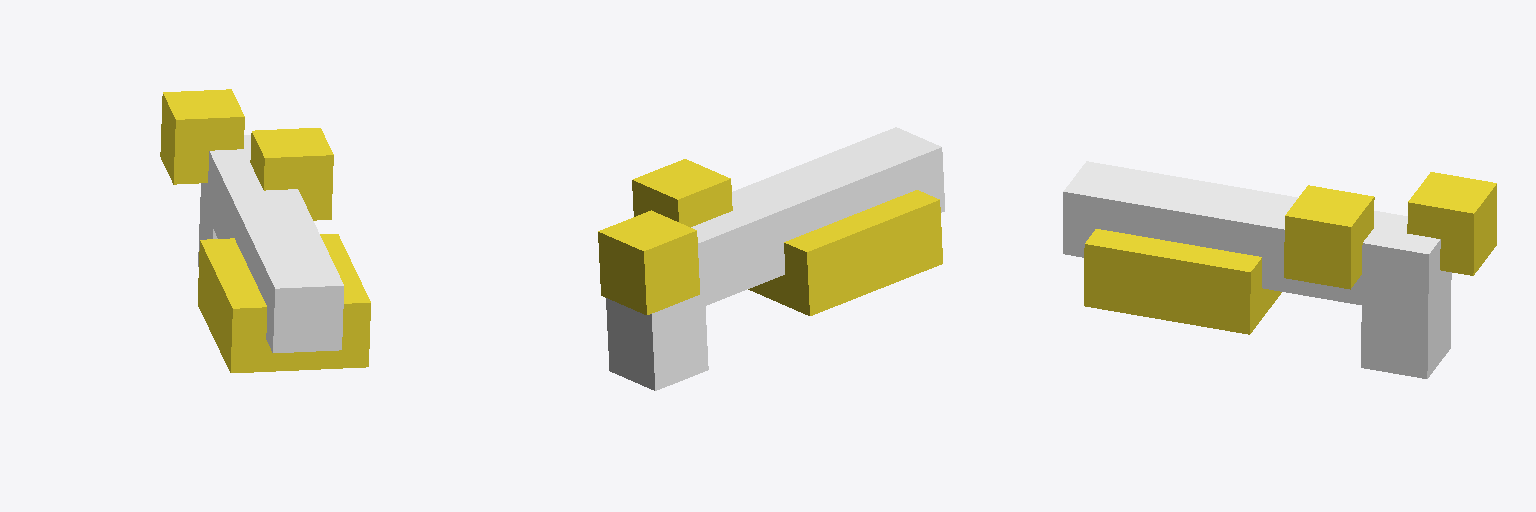
The model's file is DigitoGun.obj.
3 renders of one model, left to right at view 1: azimuth 30°, elevation 25°; view 2: azimuth 150°, elevation 25°; view 3: azimuth 270°, elevation 25°, orthographic.
Visible parts, largest first — view 1: group[number redacted], group[number redacted], group[number redacted], group[number redacted]; view 2: group[number redacted], group[number redacted], group[number redacted], group[number redacted], group[number redacted]; view 3: group[number redacted], group[number redacted], group[number redacted], group[number redacted], group[number redacted].
Part boxes in pixels (x1,y1,x2,y2): group[number redacted]: (200,135,343,352); group[number redacted]: (198,234,370,372); group[number redacted]: (160,89,244,184); group[number redacted]: (250,128,333,220); group[number redacted]: (606,127,944,326); group[number redacted]: (748,190,942,315); group[number redacted]: (598,210,699,314); group[number redacted]: (606,306,708,390); group[number redacted]: (632,159,732,227); group[number redacted]: (1063,161,1451,316); group[number redacted]: (1084,229,1281,334); group[number redacted]: (1284,185,1374,289); group[number redacted]: (1407,172,1496,275); group[number redacted]: (1361,288,1450,378).
Bounding box in the file's own units: 0.3534 × 0.2757 × 0.6631.